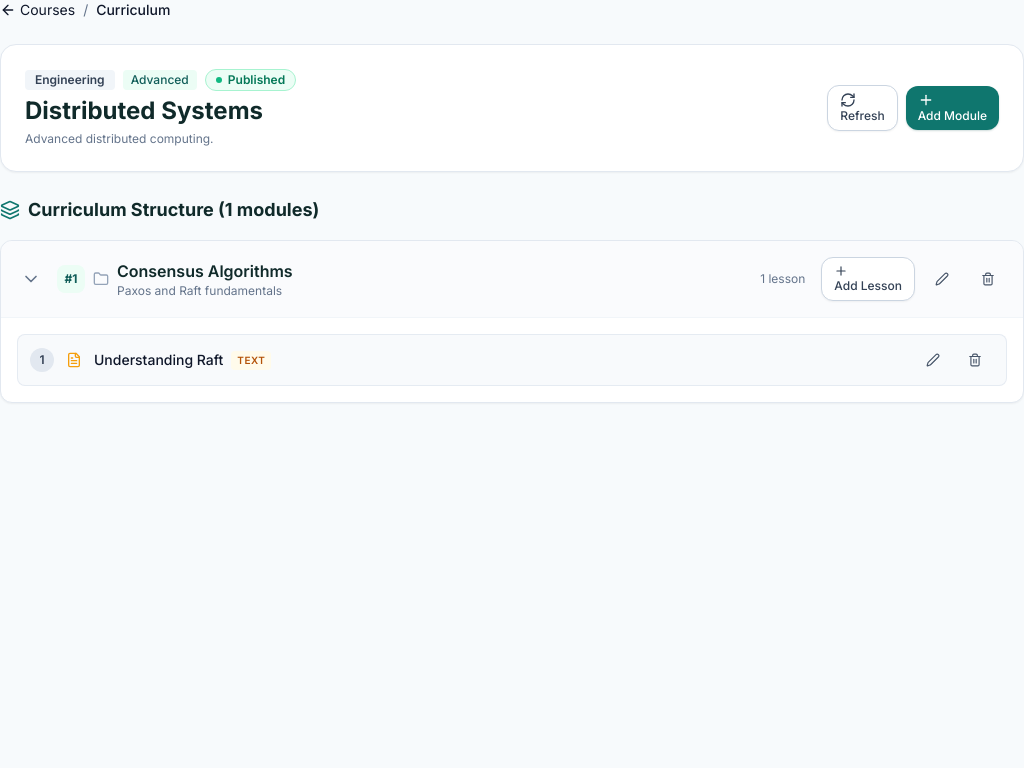
Test: TrainerCurriculumPage › adds a new lesson to a module
Expected: the heading "Understanding Raft" is shown, [94,350,223,370]
Click the button with aria-label "Add lesson to Consensus Algorithms": point(868, 279) [821,257,915,301]
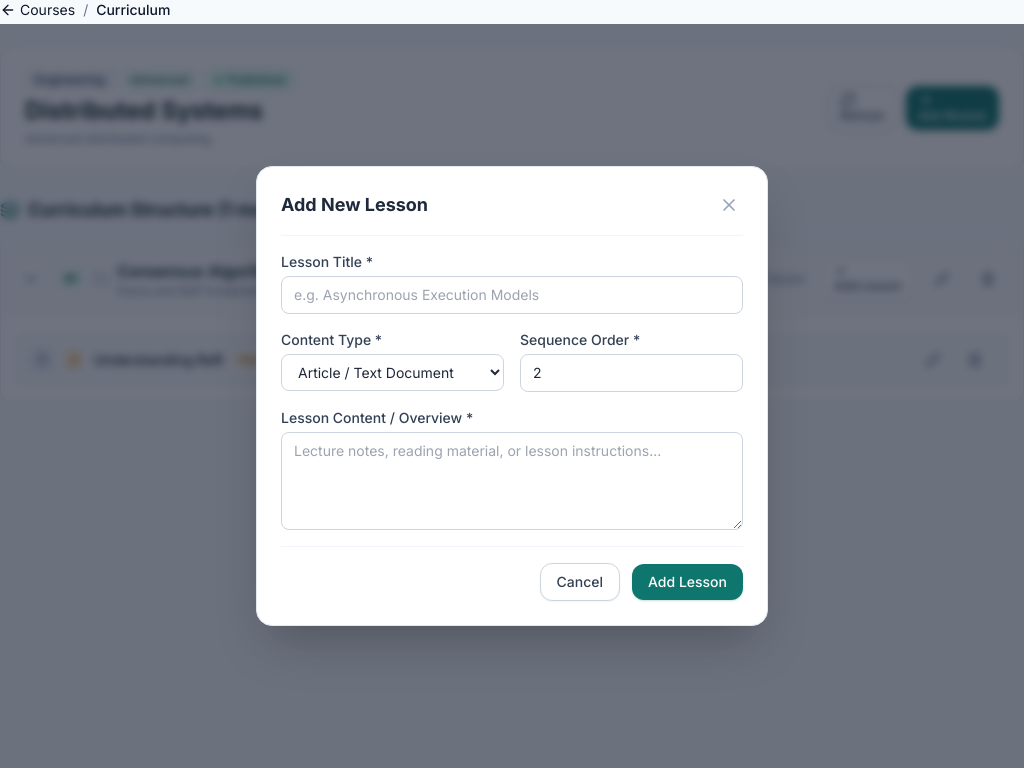
Result: the dialog is shown
In the field labelled "Lesson Title *": point(512, 295) [281,276,743,314], type "Paxos Implementation"
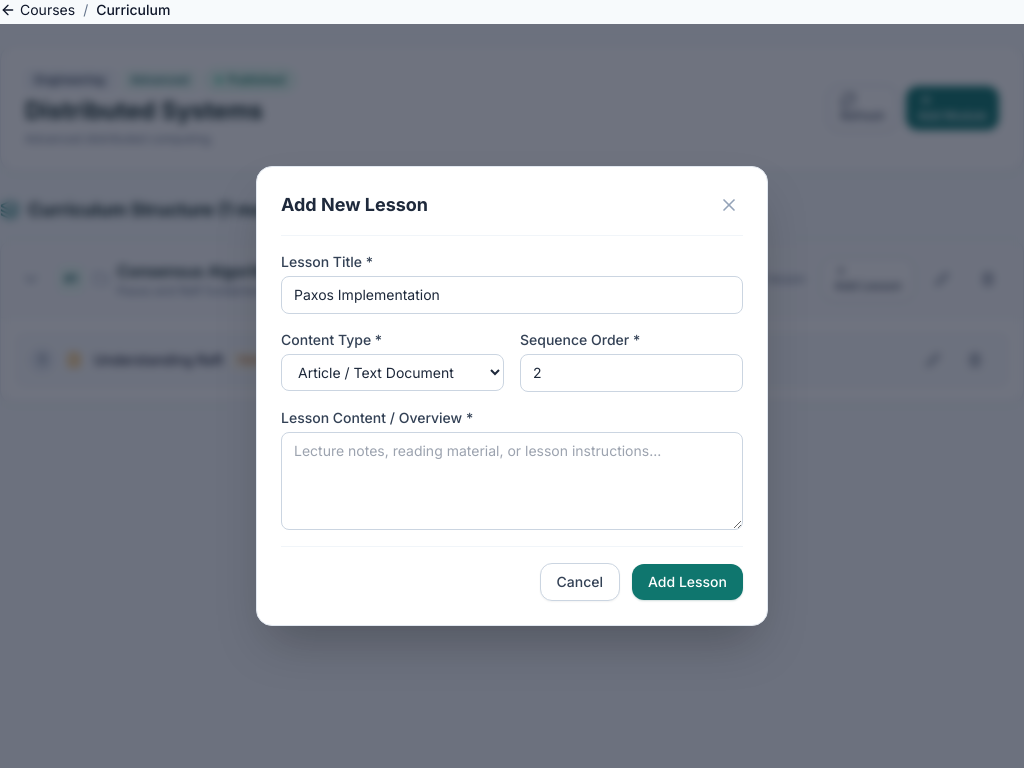
In the text box labelled "Lesson Content / Overview *": point(512, 481) [281,432,743,530], type "Deep dive into multi-Paxos."
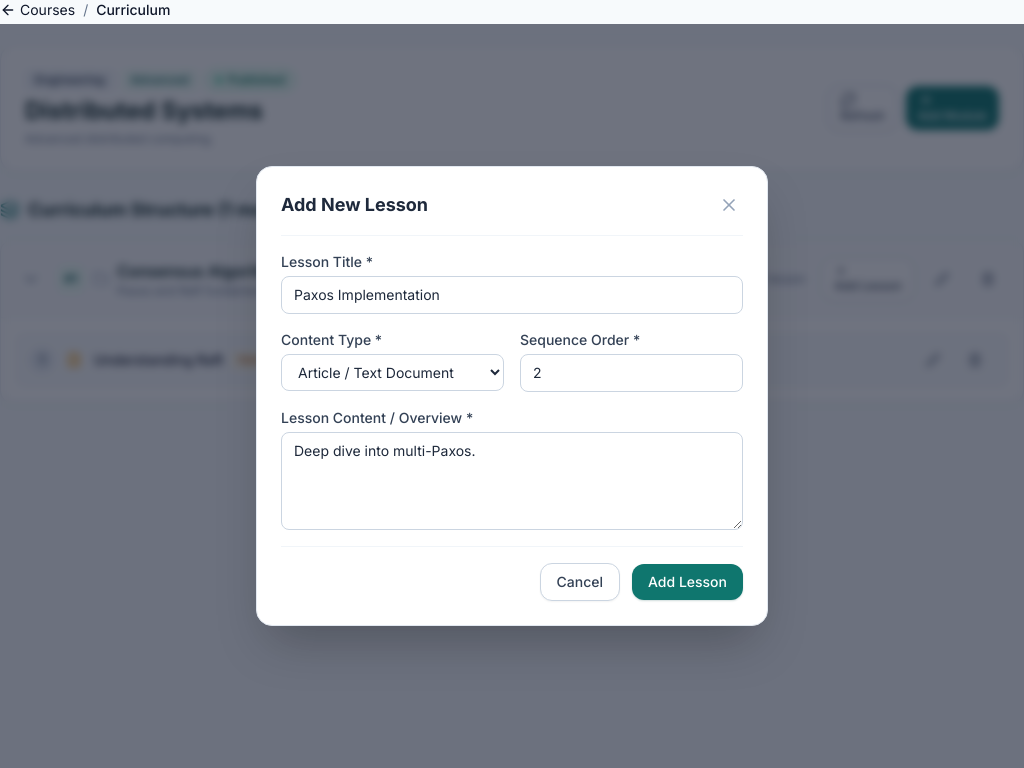
Click the button "Add Lesson": point(688, 582) [632,564,743,600]
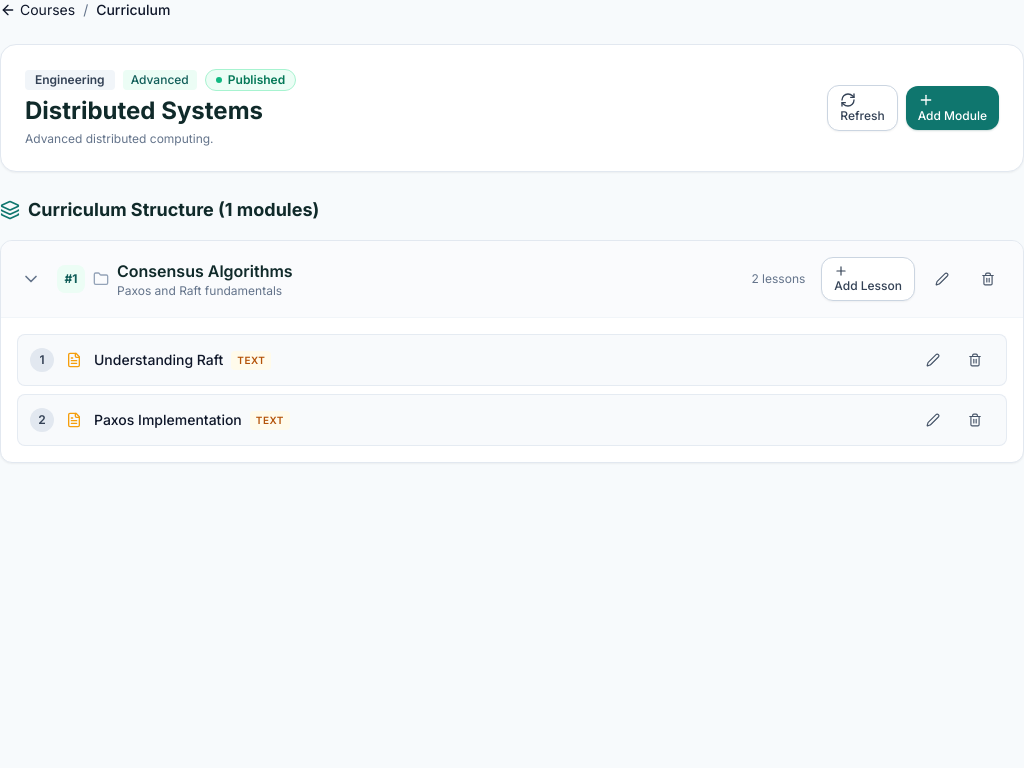
Result: the heading "Paxos Implementation" is shown at [94,410,242,430]
